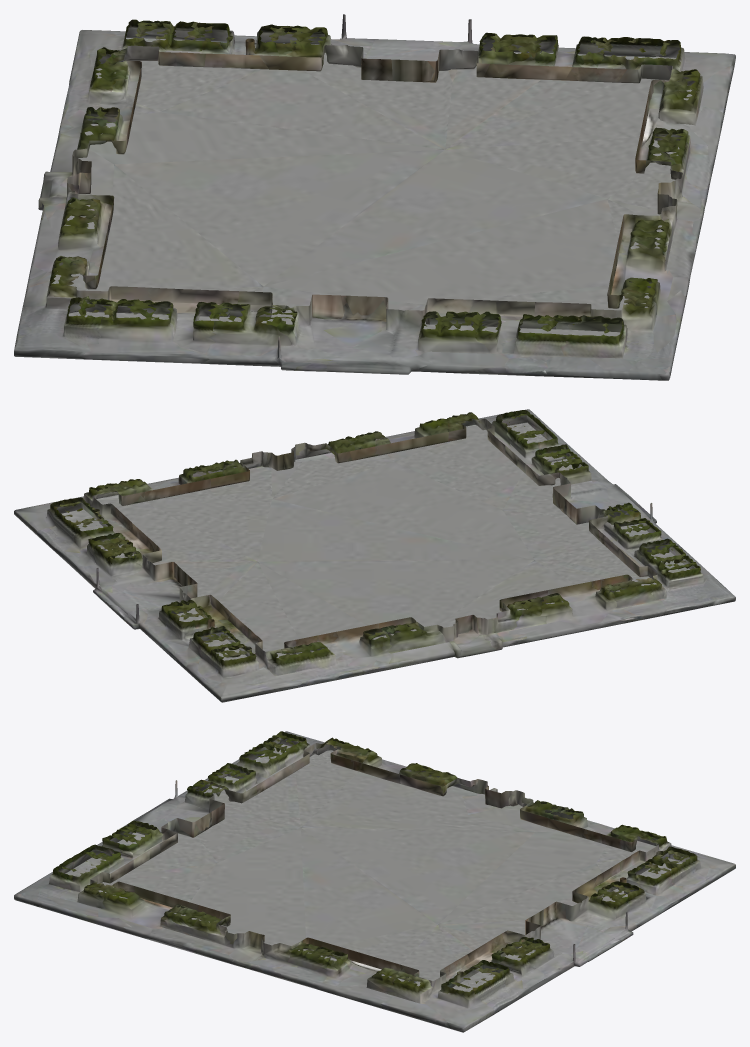
The model's file is building-stage-0.glb.
3 views of the same model, one above another, from view 1: azimuth 30°, elevation 25°; view 2: azimuth 150°, elevation 25°; view 3: azimuth 270°, elevation 25° (orthographic). The views are drawn at different scales.
Visible parts, largest first — view 1: stage_0_ground; view 2: stage_0_ground; view 3: stage_0_ground.
Part boxes in pixels (x1,y1,x2,y2): stage_0_ground: (14,14,735,380); stage_0_ground: (14,409,735,702); stage_0_ground: (14,731,735,1032).
Bounding box in the file's own units: 1.33 × 0.0476 × 1.37.
Materials: 1 (1 with a texture image).
